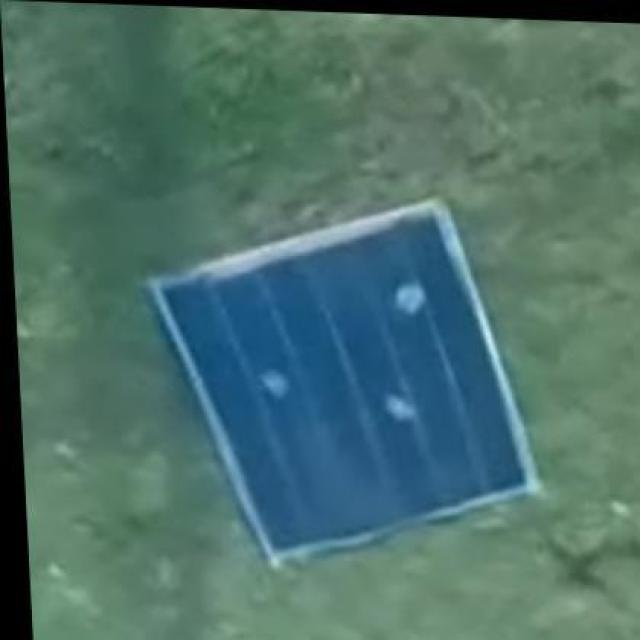soiled: (160, 202, 556, 566)
